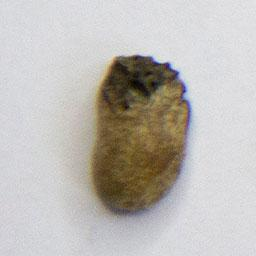defect: (85, 50, 195, 215)
